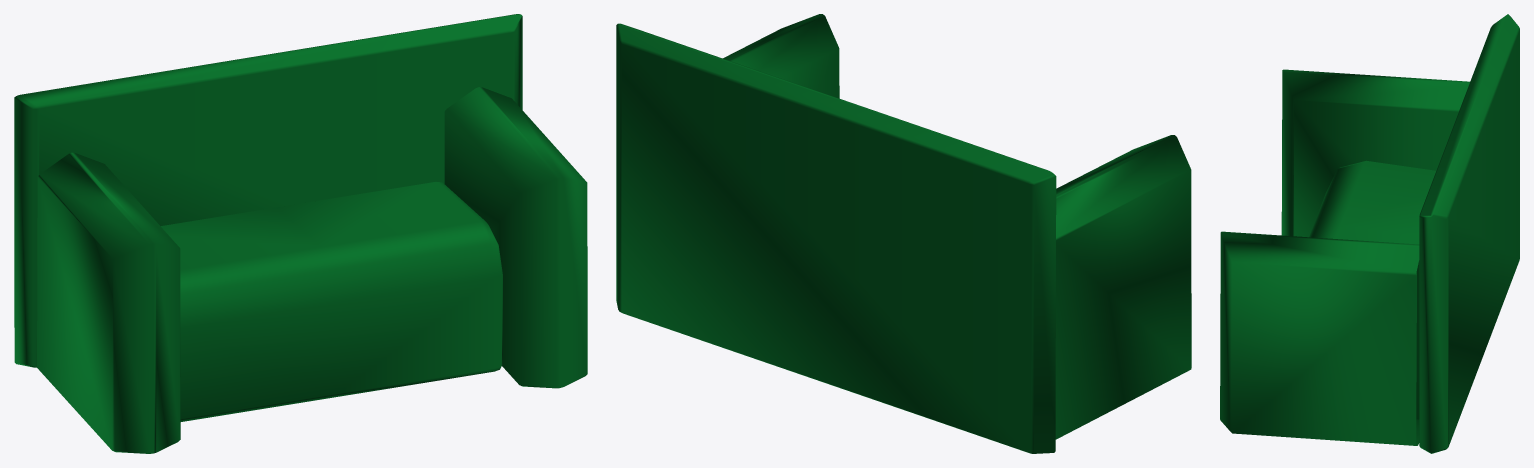
Rendered from 3d couch.fbx.
The picture shows the model from 3 angles, left to right: view 1: azimuth 30°, elevation 25°; view 2: azimuth 150°, elevation 25°; view 3: azimuth 270°, elevation 25°; orthographic projection. The views are drawn at different scales.
Parts seen in each view (by area): view 1: couch; view 2: couch; view 3: couch.
Boxes of the visible parts, <box> form: couch: <box>14,14,587,453</box>; couch: <box>616,14,1191,453</box>; couch: <box>1220,14,1519,453</box>.
Size of the model in its own units: 238 by 127 by 144.
